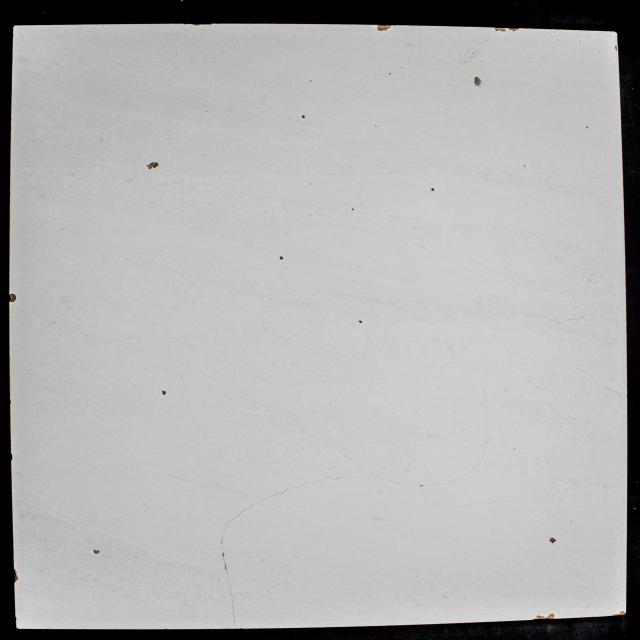edge-chipping: (534, 614, 556, 621), (376, 24, 391, 32), (611, 609, 626, 617), (9, 293, 17, 303), (14, 568, 19, 583), (494, 27, 506, 32), (508, 28, 519, 31)
hole: (145, 162, 159, 170), (474, 76, 483, 87), (549, 537, 557, 544), (161, 389, 167, 396), (93, 550, 100, 554), (301, 114, 306, 119), (358, 319, 363, 324), (279, 255, 283, 261), (351, 208, 355, 212), (431, 188, 435, 192), (585, 125, 589, 128), (419, 485, 424, 486)
line: (257, 477, 344, 502), (427, 455, 483, 486), (481, 363, 490, 451), (347, 478, 413, 487), (226, 571, 236, 628), (230, 503, 256, 521), (220, 522, 228, 552)
